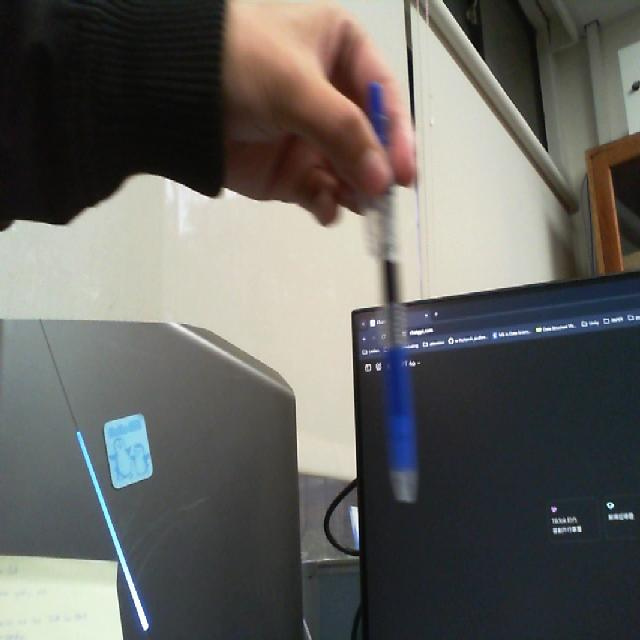Pen: (354, 76, 426, 527)
